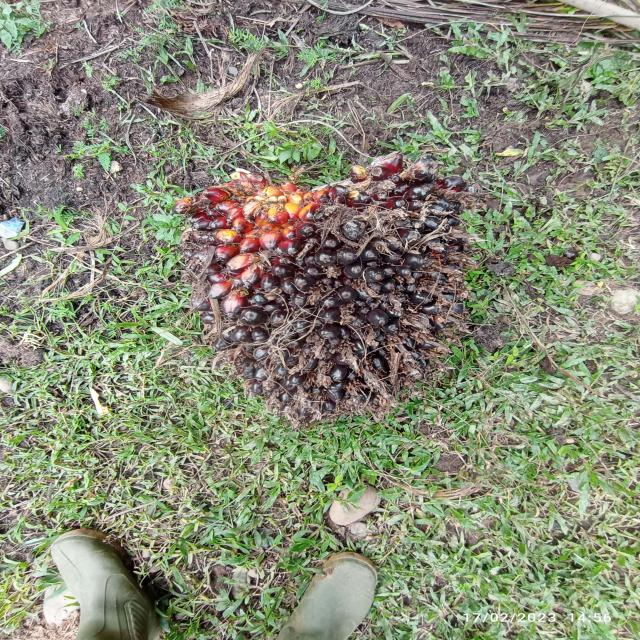fraksi 00: (135, 136, 512, 445)
